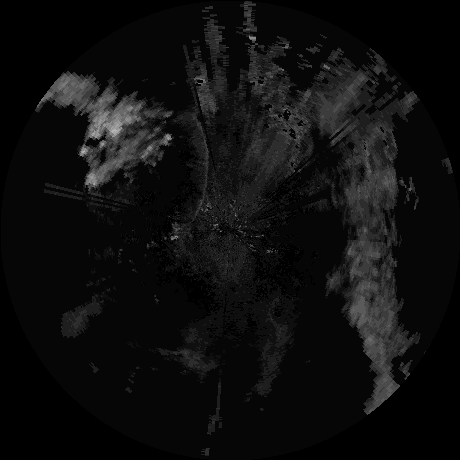frontgust: (191, 112, 212, 222)
